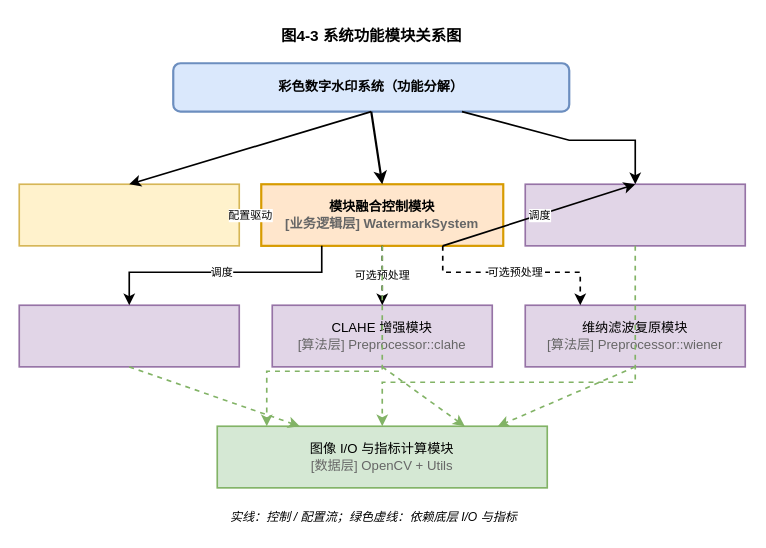
Some shapes in this 766 by 548 pixel diagram are drawn without their labels. The centre of each missing label's shape, as x and y in pixels:
"命令行解析模块 [用户交互层] CLI" goes at (129,214).
"水印嵌入模块 [算法层] WatermarkCodec::embed" goes at (635,214).
"水印提取模块 [算法层] WatermarkCodec::extract" goes at (129,335).
